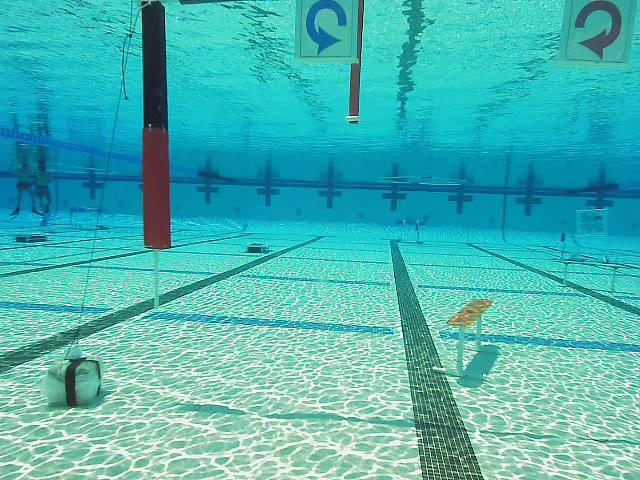table: (392, 218, 427, 245)
torpedo: (574, 208, 607, 237)
